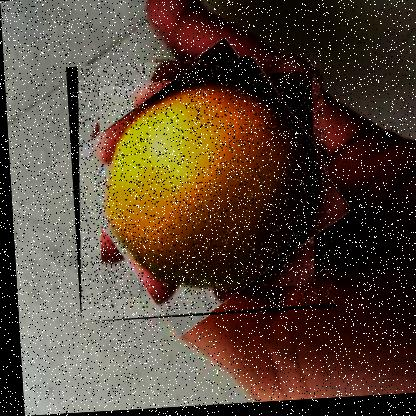orange: (65, 54, 333, 322)
